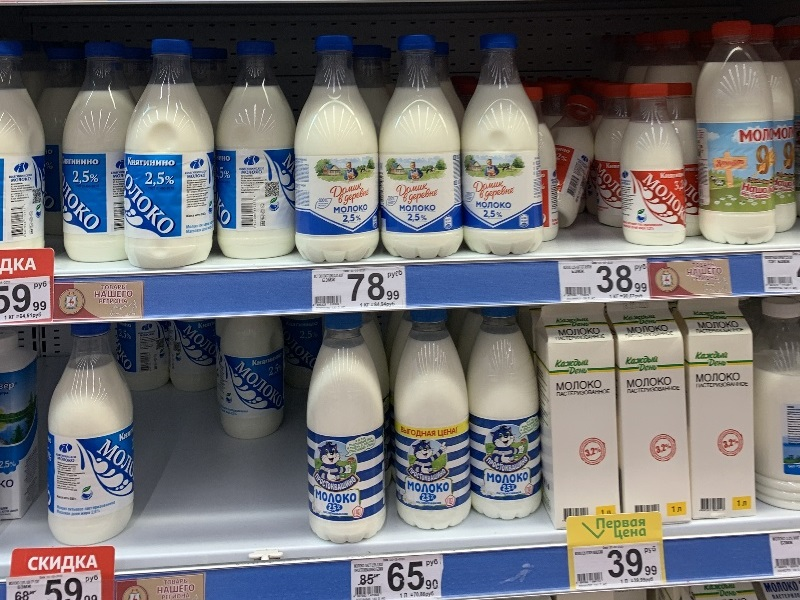milk: (288, 32, 391, 272), (295, 311, 398, 547), (210, 33, 312, 268), (373, 31, 475, 266), (123, 35, 219, 273), (456, 305, 554, 530), (534, 300, 627, 524), (673, 294, 763, 523), (458, 34, 550, 257), (48, 324, 136, 553), (394, 309, 481, 539), (605, 297, 693, 524), (694, 18, 777, 251), (60, 40, 137, 266), (616, 80, 691, 250)
